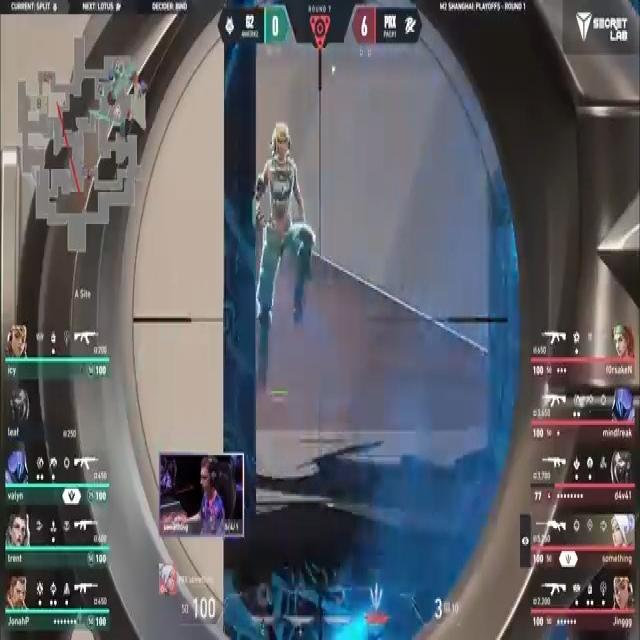ally: (250, 115, 320, 402)
